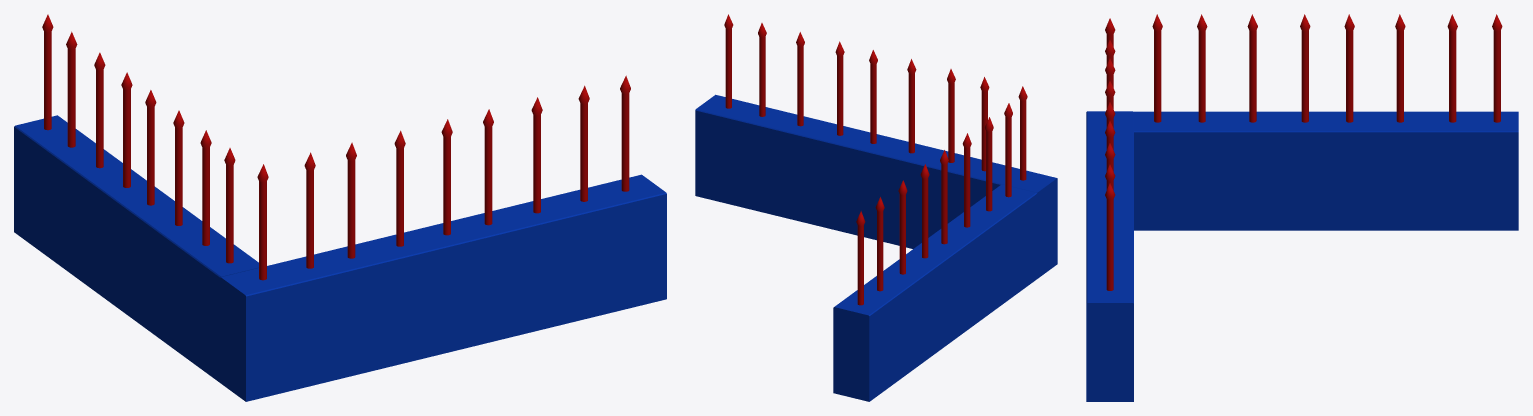
File: wall_angle_resized_uvs.fbx
3 views of the same model, side by side, from view 1: azimuth 30°, elevation 25°; view 2: azimuth 150°, elevation 25°; view 3: azimuth 270°, elevation 25° (orthographic). The views are drawn at different scales.
Visible parts, largest first — view 1: mur_angle:pasted__group1_pasted__barreau; view 2: mur_angle:pasted__group1_pasted__barreau; view 3: mur_angle:pasted__group1_pasted__barreau.
Boxes of the visible parts, x1,y1,x2,y2 form: mur_angle:pasted__group1_pasted__barreau: (14, 14, 666, 401); mur_angle:pasted__group1_pasted__barreau: (695, 14, 1057, 401); mur_angle:pasted__group1_pasted__barreau: (1086, 14, 1518, 401).
Bounding box in the file's own units: 978 × 492 × 934.
